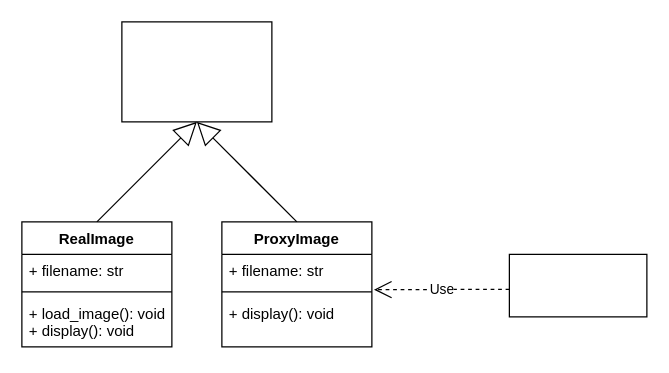
This 669x373 diagram has some shape labels left out. The centre of each missing label's shape, as x and y in pixels:
"<<Interface>> Image + display(): void" belongs at point 196,71.
"Client" belongs at point 577,285.
